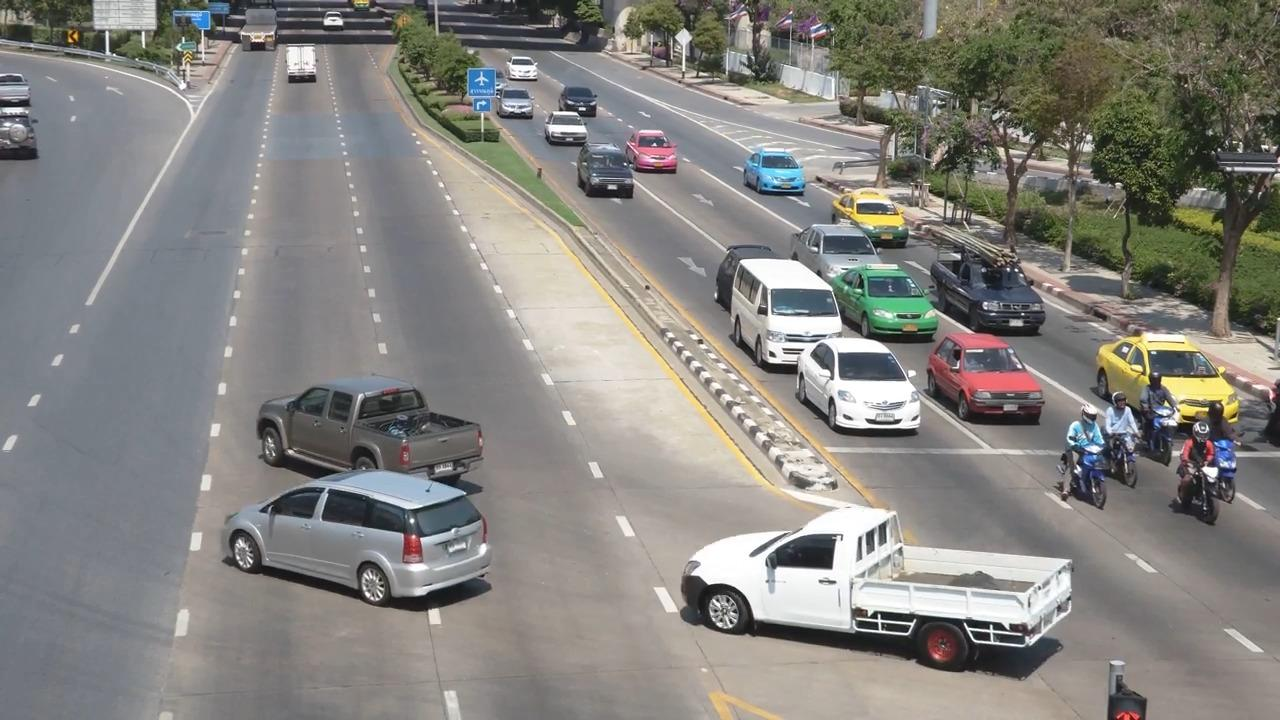CAR: (662, 479, 1101, 690), (217, 466, 512, 614), (248, 365, 495, 485), (1087, 317, 1255, 434), (793, 331, 931, 438), (734, 252, 848, 372), (927, 323, 1047, 431), (930, 233, 1050, 341), (843, 265, 945, 343), (791, 215, 880, 287), (836, 183, 916, 246), (571, 136, 642, 206), (743, 143, 819, 207), (0, 102, 61, 178), (269, 30, 332, 95), (620, 123, 693, 178), (0, 58, 56, 113), (551, 73, 606, 124), (540, 108, 596, 152), (497, 49, 546, 90), (495, 81, 536, 121)
HGV_BUS: (229, 2, 288, 59)
MOTOR: (1159, 414, 1234, 516), (1045, 408, 1107, 507), (1129, 366, 1177, 456), (1095, 391, 1142, 481)
